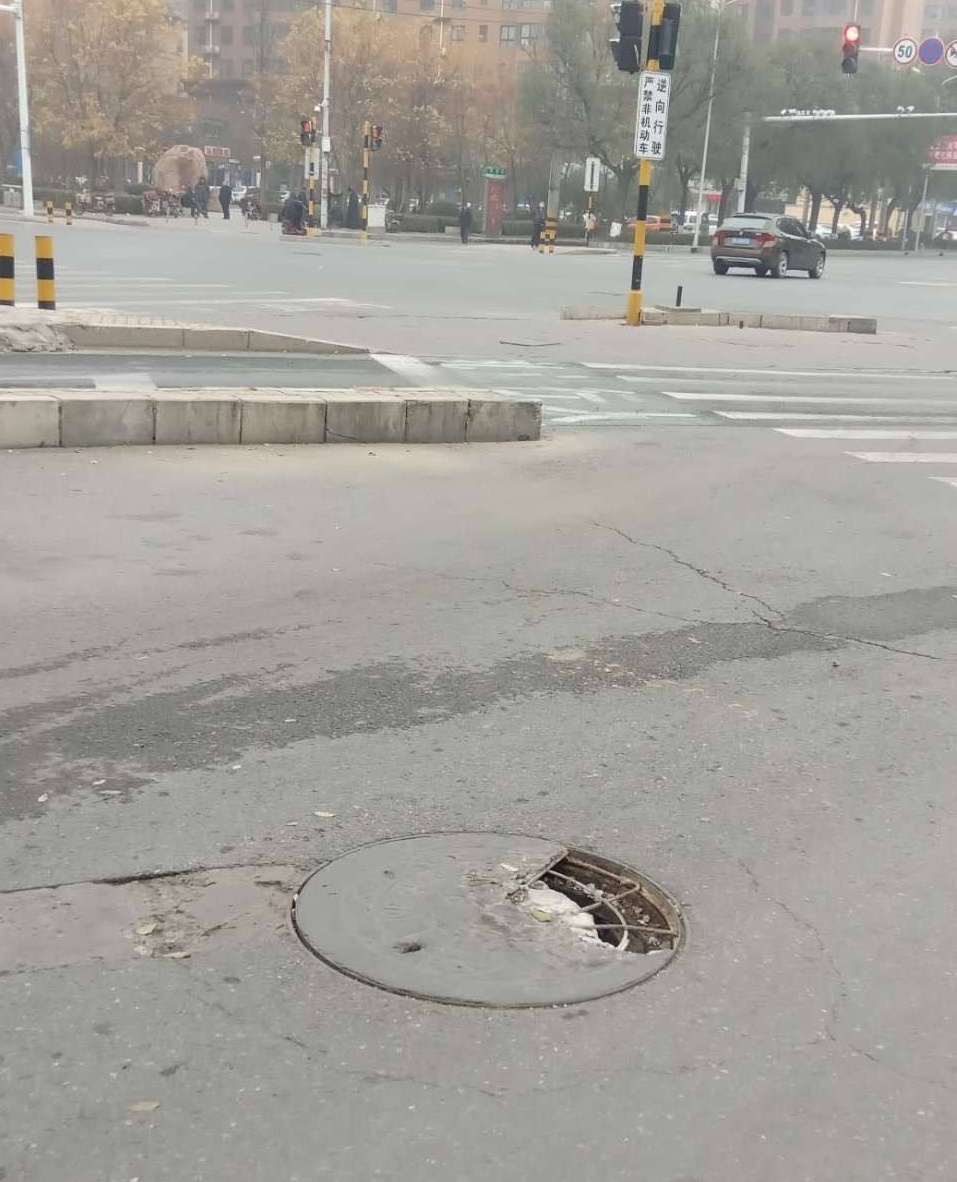broke: (292, 831, 688, 1007)
